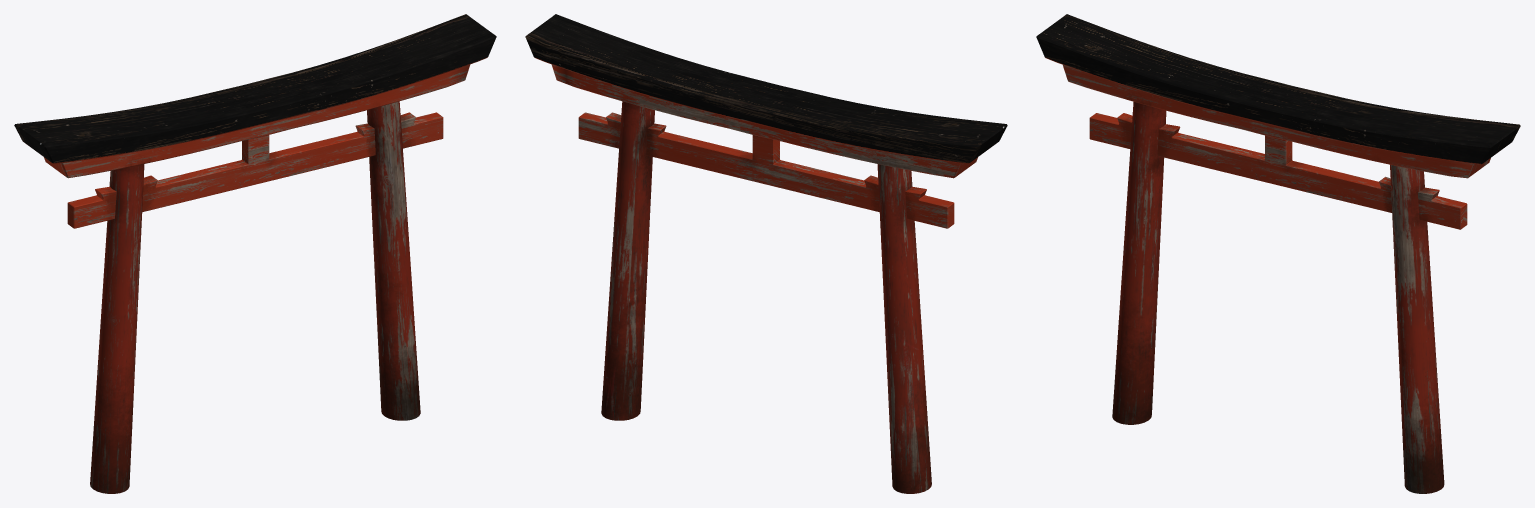
File: NNJ0610002.fbx
3 views of the same model, side by side, from view 1: azimuth 30°, elevation 25°; view 2: azimuth 150°, elevation 25°; view 3: azimuth 330°, elevation 25° (orthographic).
Visible parts, largest first — view 1: smNNJ0610002; view 2: smNNJ0610002; view 3: smNNJ0610002.
Boxes of the visible parts, box(x1,y1,x2,y2) form: smNNJ0610002: box(14, 14, 496, 493); smNNJ0610002: box(525, 14, 1007, 493); smNNJ0610002: box(1036, 14, 1520, 493).
Bounding box in the file's own units: 589 × 460 × 69.56.
Materials: 1 (1 with a texture image).
